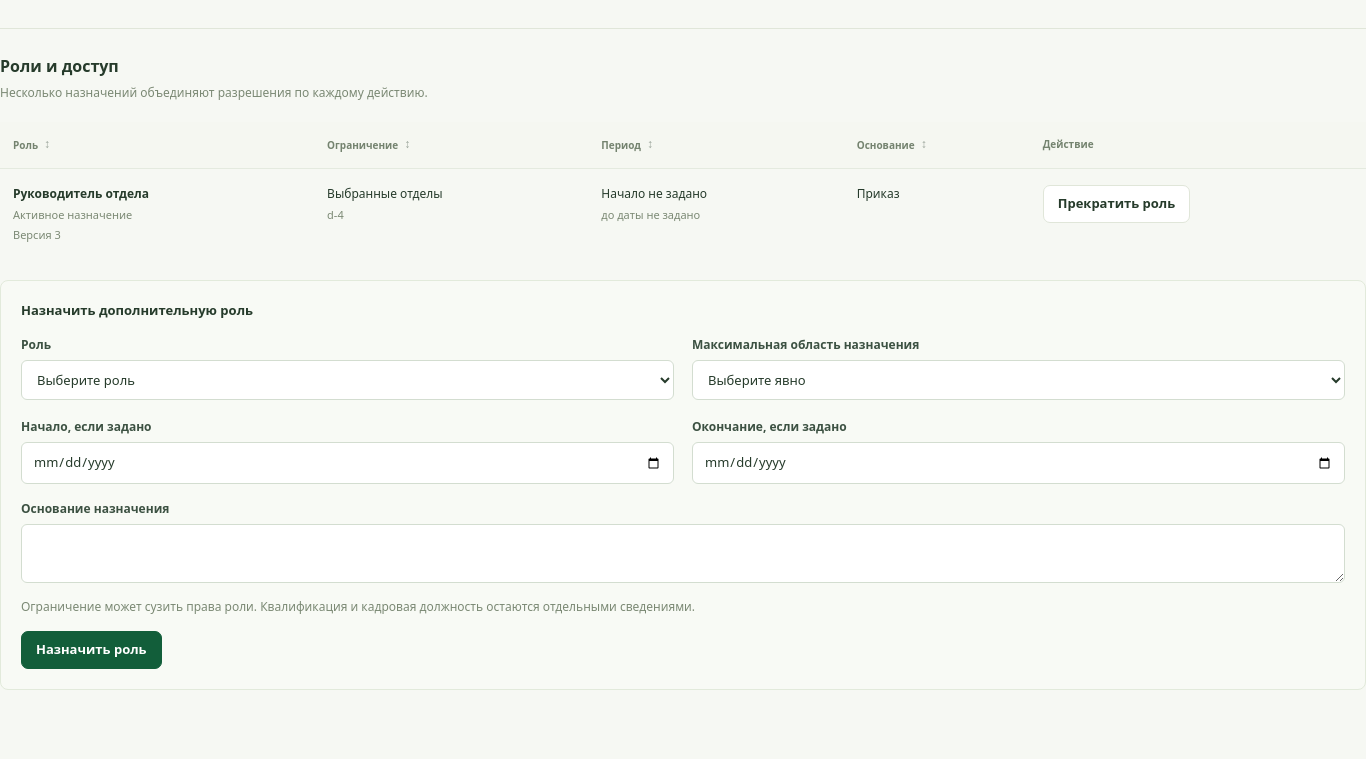
Scenario: employee role assignments › ends only the chosen role using its version and an explicit reason
Click the button "Прекратить роль": (1116, 204) [1043, 185, 1190, 223]
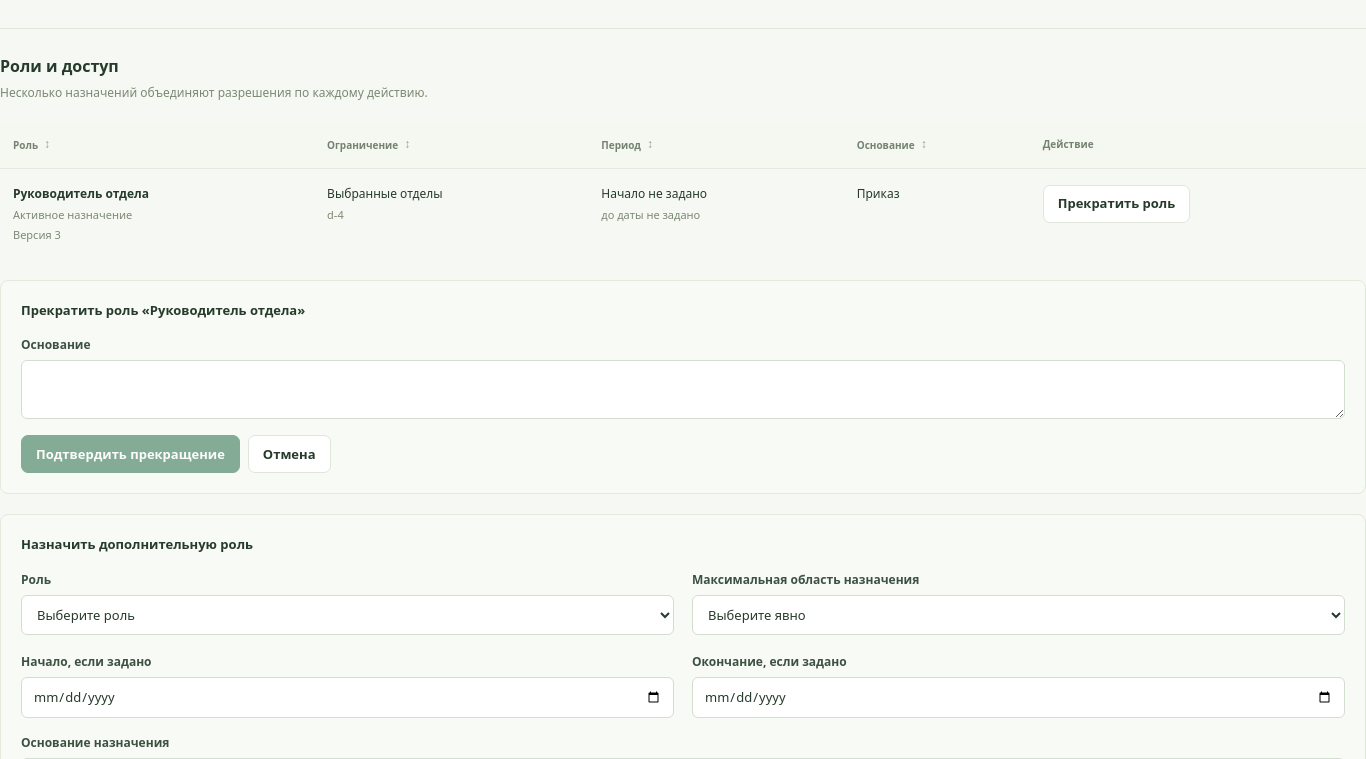
In the text box named "role_end_reason": (683, 390) [21, 360, 1345, 419], type "Завершение замещения"
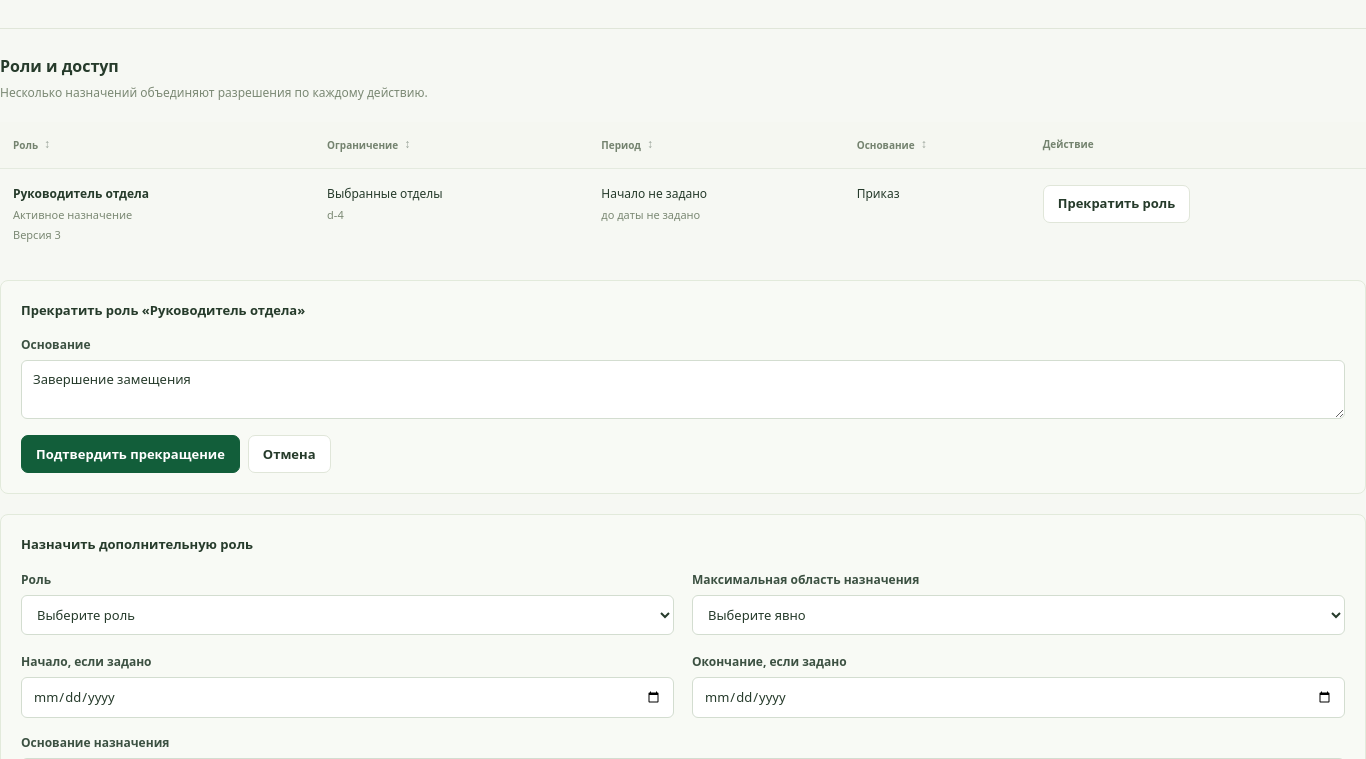
Submit the form that starts with "Прекратить роль «Руководитель отдела»", box [0, 280, 1365, 494]
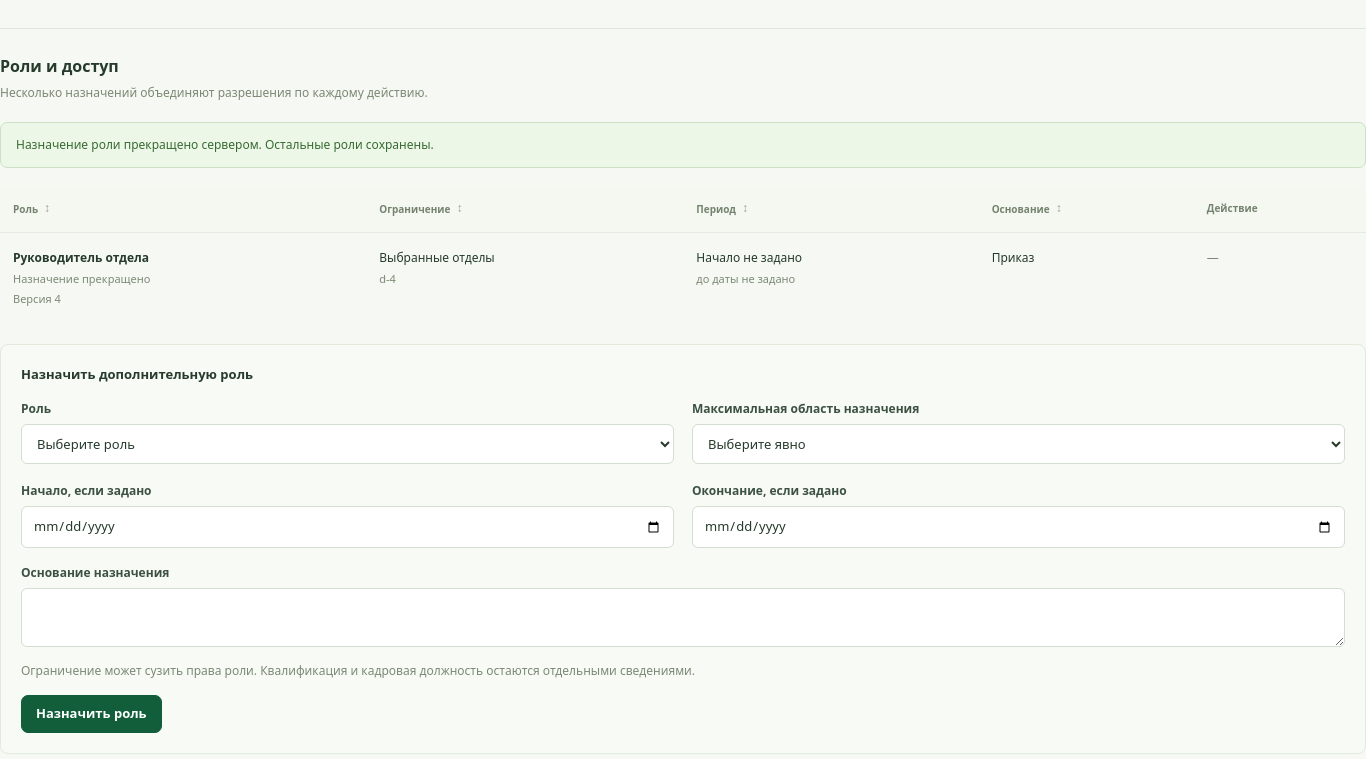
Expected: the row that starts with "Руководитель отдела" shows "Назначение прекращено", [13, 271, 150, 286]
